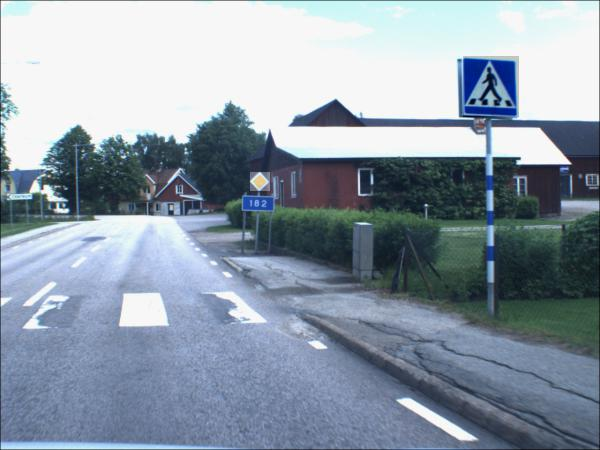PEDESTRIAN_CROSSING: (464, 57, 521, 119)
PRIORITY_ROAD: (251, 173, 272, 193)
